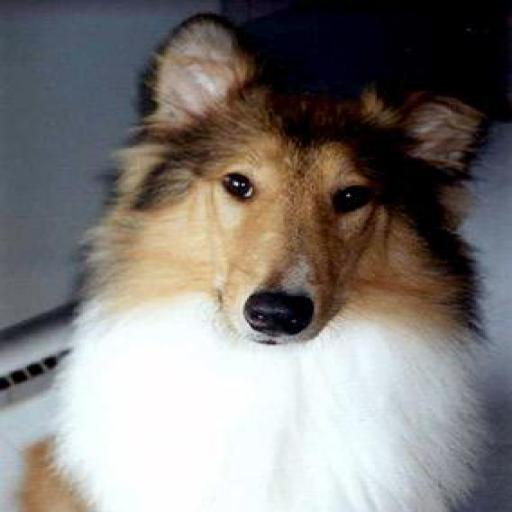dog_face: (121, 16, 474, 341)
